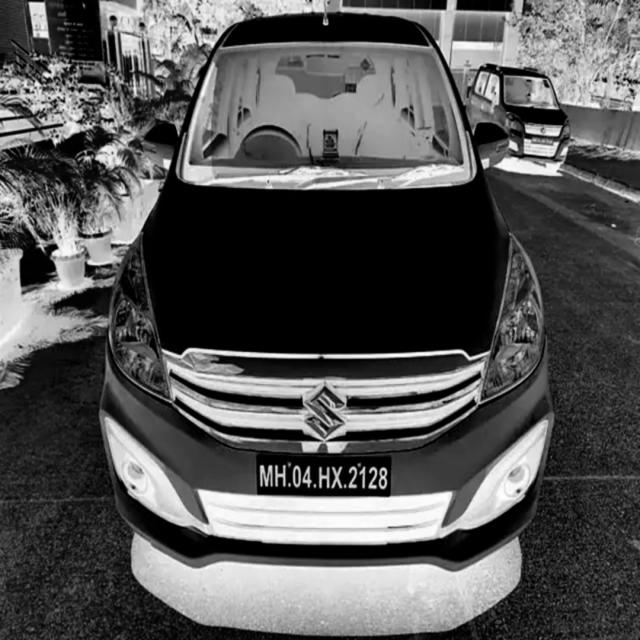Non_registered: (255, 450, 395, 500)
